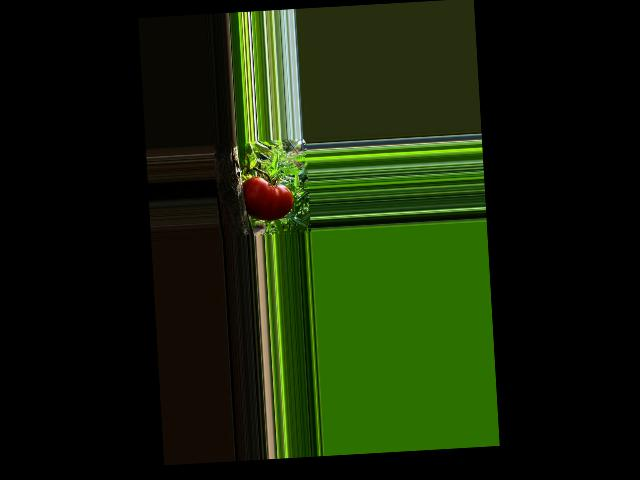tomato: (241, 174, 294, 221)
